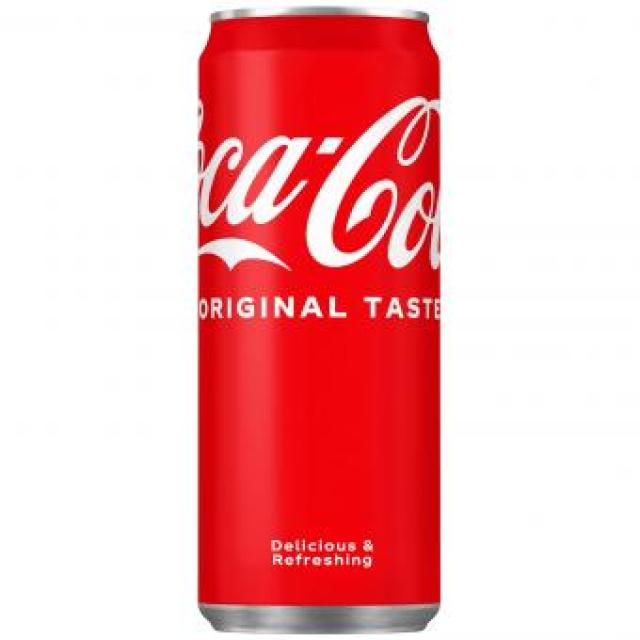aluminum_can: (200, 13, 440, 633)
